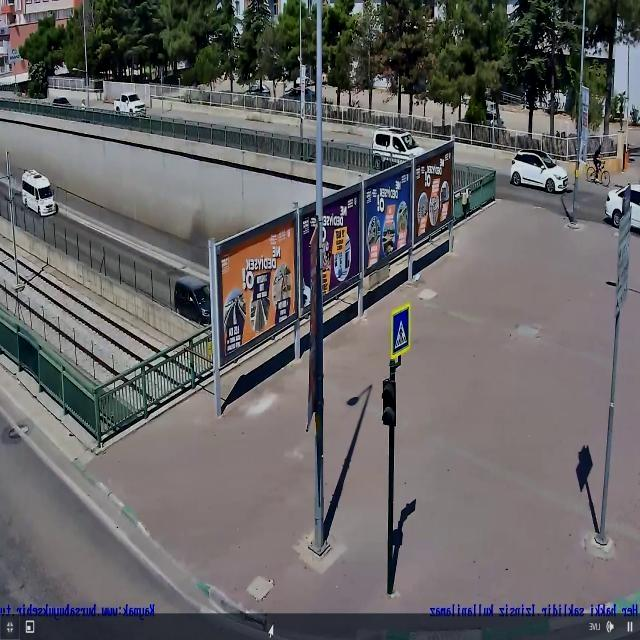Car: (509, 148, 570, 195), (372, 126, 432, 170), (605, 182, 640, 235)
Cycle: (585, 160, 612, 188)
Truck: (113, 90, 147, 120)
Van: (172, 276, 218, 326), (21, 168, 57, 217)
